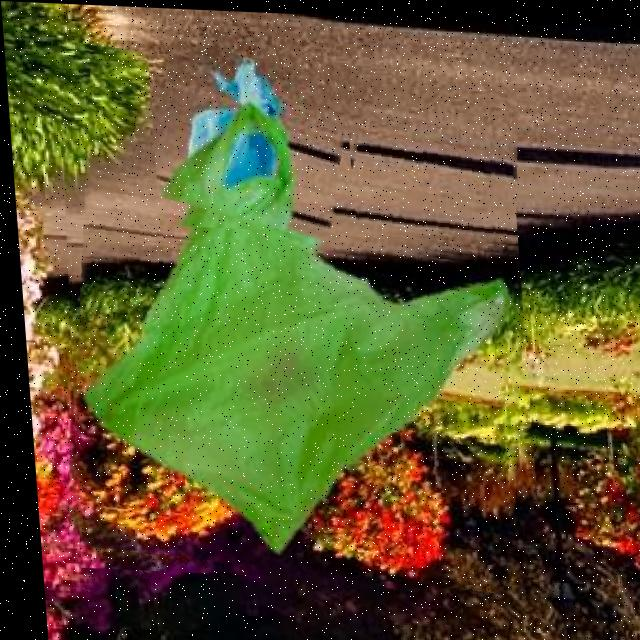litter: (41, 49, 534, 582), (145, 42, 353, 230)
